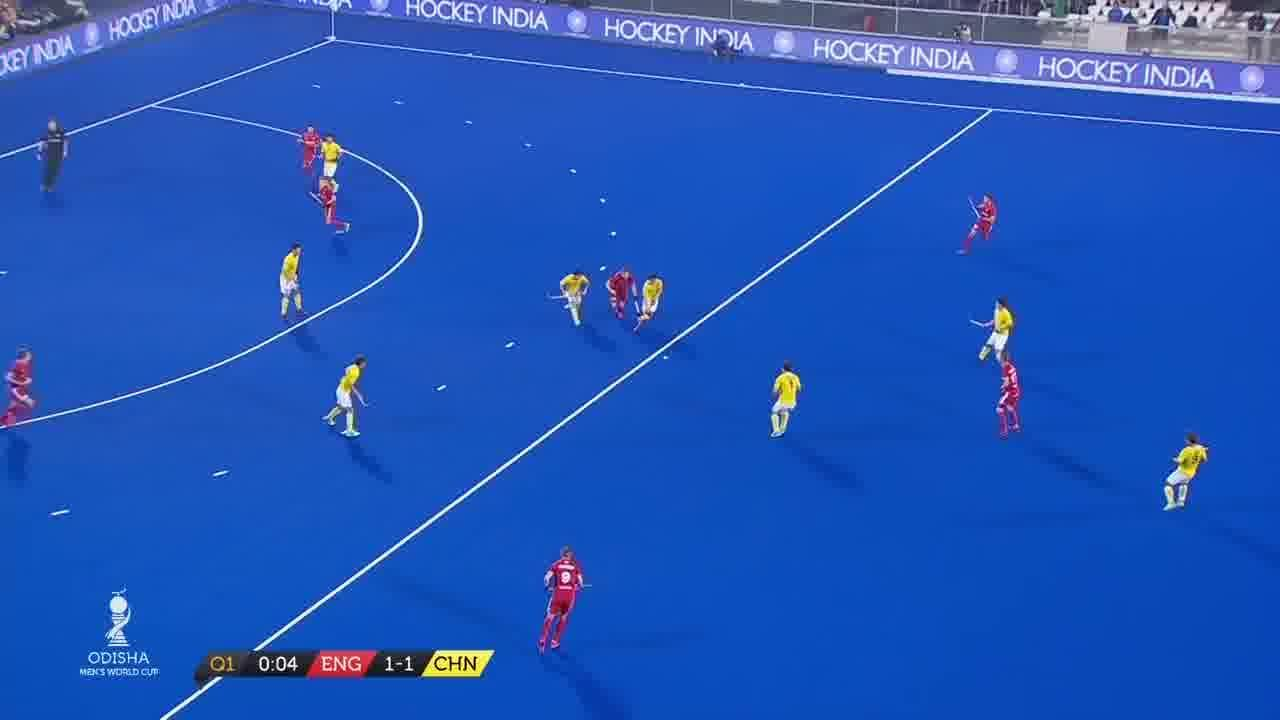ball: (658, 350, 680, 366)
